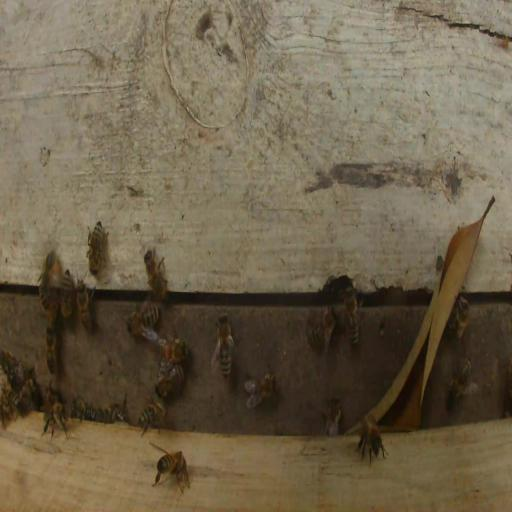bee: (210, 311, 241, 378), (354, 415, 389, 466), (154, 449, 190, 494), (307, 304, 338, 354), (447, 356, 475, 403), (126, 303, 161, 340), (243, 371, 278, 408), (144, 246, 167, 301), (342, 283, 361, 347), (86, 219, 107, 275), (75, 279, 95, 333), (155, 363, 184, 398), (447, 292, 469, 338), (138, 401, 166, 437), (157, 336, 188, 364), (320, 397, 342, 436), (1, 384, 21, 426), (1, 348, 23, 384), (42, 286, 60, 328), (59, 270, 73, 320), (19, 375, 39, 410), (70, 396, 97, 421), (42, 249, 59, 288), (45, 326, 57, 375), (106, 398, 128, 423), (44, 402, 66, 426), (48, 386, 58, 406)
